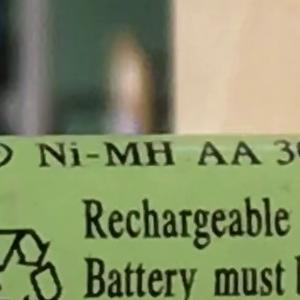NI-MH: (28, 131, 184, 177)
